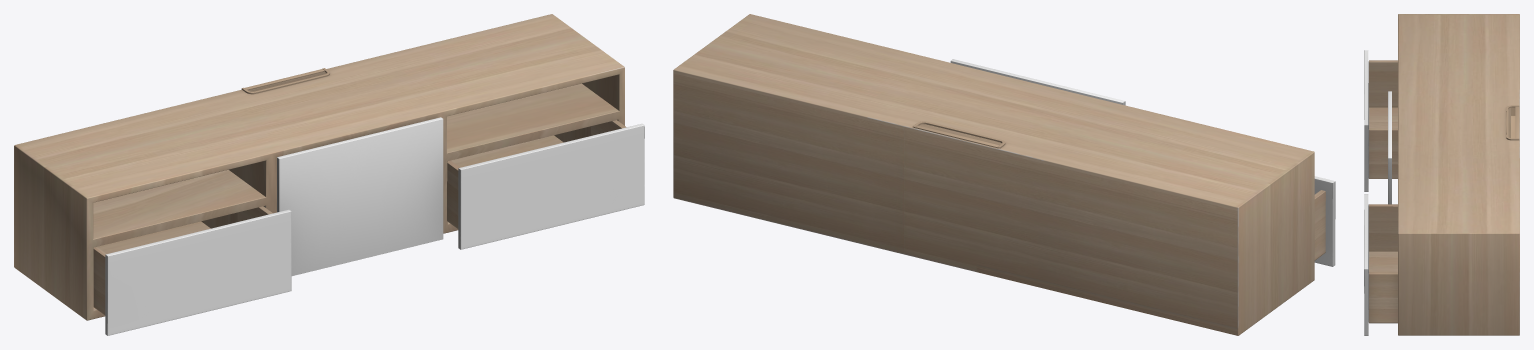
Rendered from white stained oak effect Selsviken high-gloss white.gltf.
3 views of the same model, side by side, from view 1: azimuth 30°, elevation 25°; view 2: azimuth 150°, elevation 25°; view 3: azimuth 270°, elevation 25° (orthographic). The views are drawn at different scales.
Parts seen in each view (by area): view 1: Tv shelf_001; view 2: Tv shelf_001; view 3: Tv shelf_001.
Part boxes in pixels (<box>): Tv shelf_001: <box>14,14,644,335</box>; Tv shelf_001: <box>673,14,1335,335</box>; Tv shelf_001: <box>1364,14,1519,335</box>.
Bounding box in the file's own units: 1.81 × 0.4 × 0.542.
Materials: 1 (1 with a texture image).
